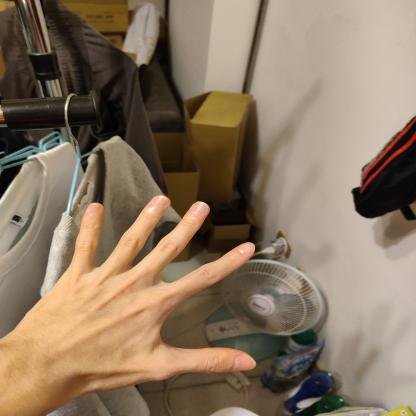bare_hand: (0, 186, 266, 412)
